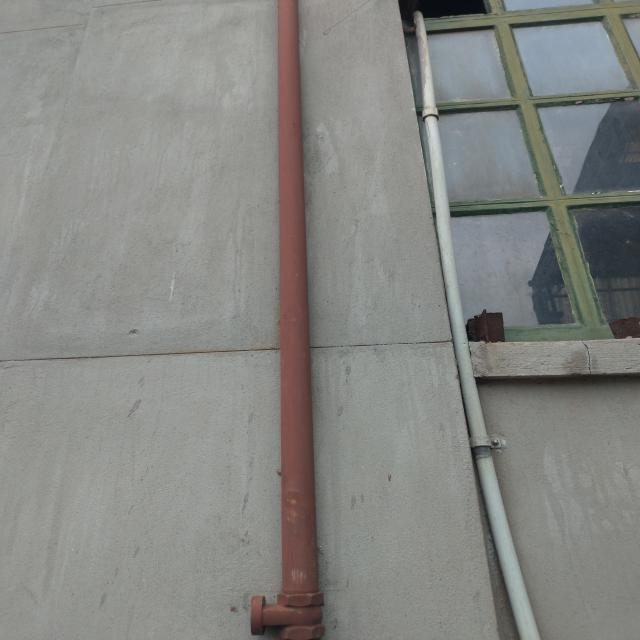gas: (280, 2, 328, 640)
